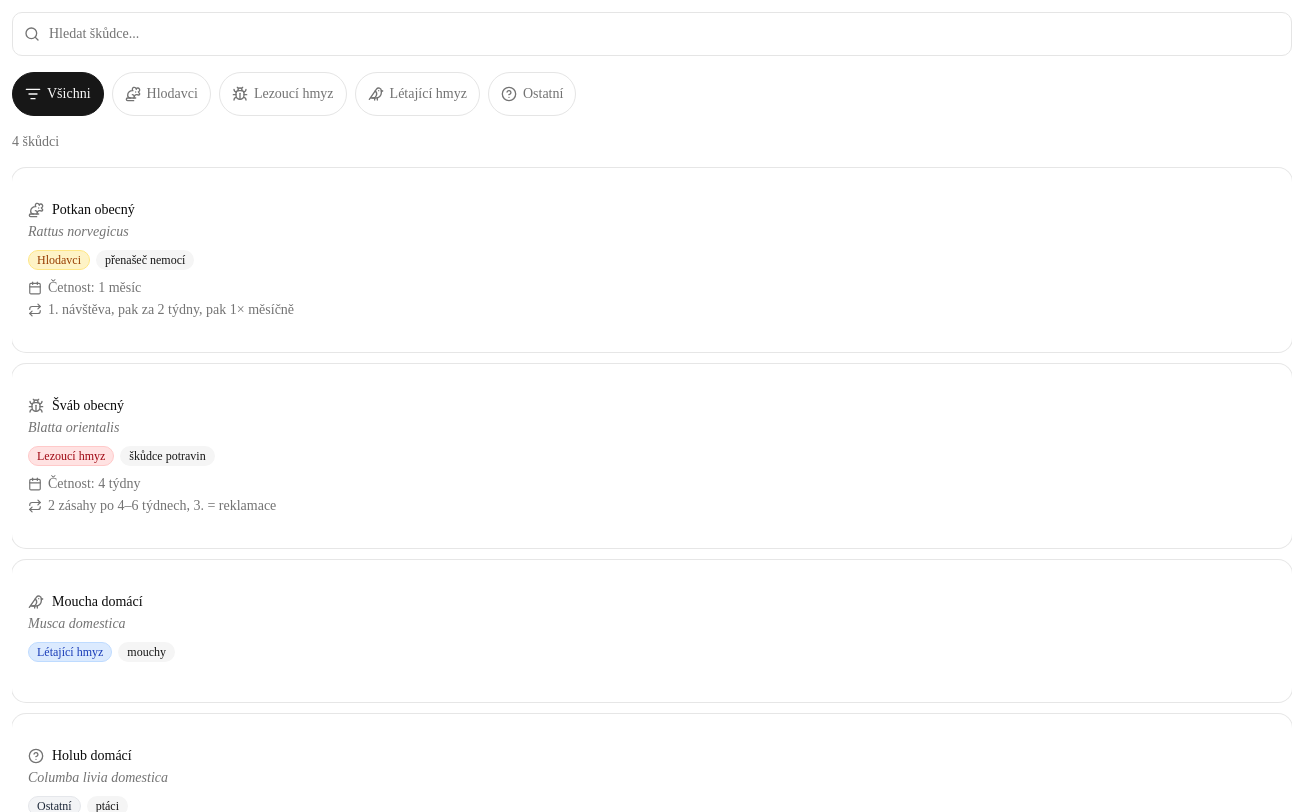
Test case: SkudciList › filters by typ lezouci_hmyz
The image size is (1304, 812).
Click the button "Lezoucí hmyz": {"x": 283, "y": 94} x1=219 y1=72 x2=347 y2=116
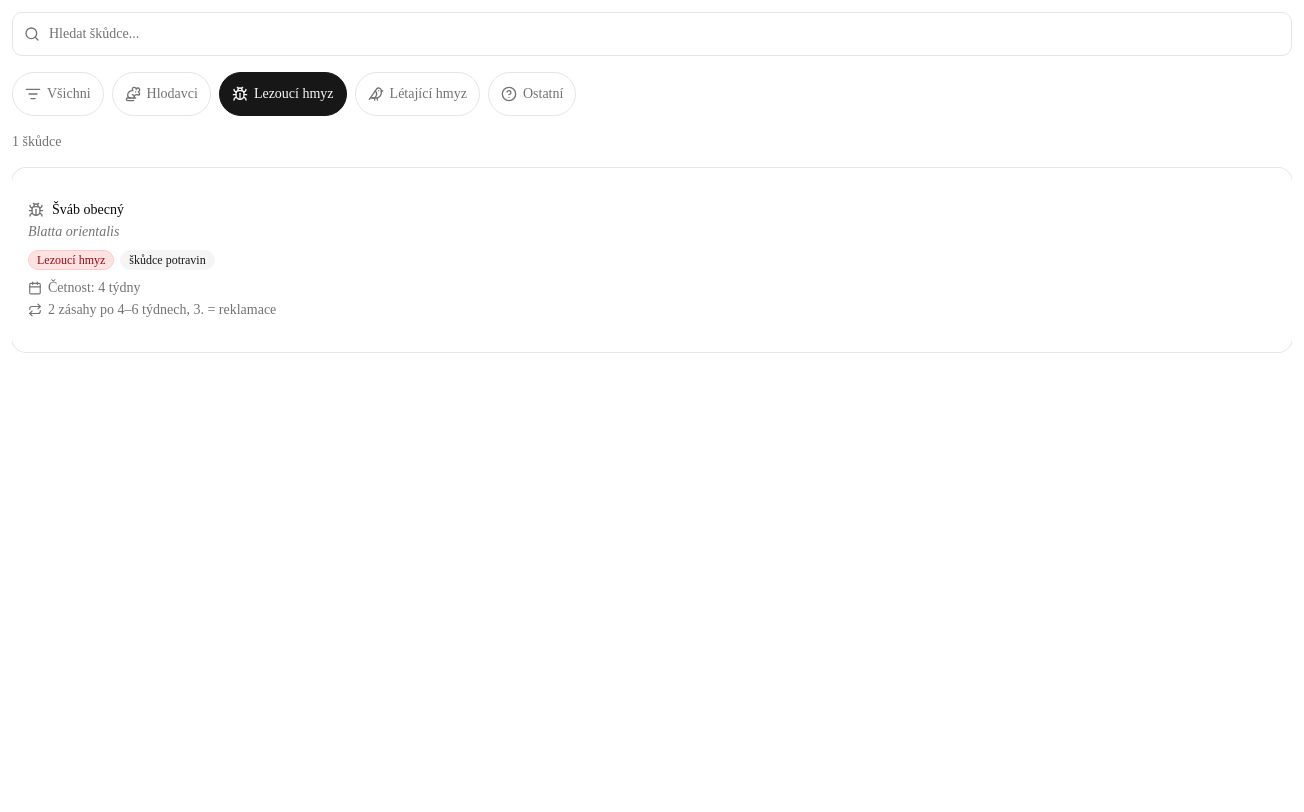
Expected: the text "Šváb obecný" is shown, x1=52 y1=200 x2=124 y2=220
Expected: the text "Potkan obecný" is gone
